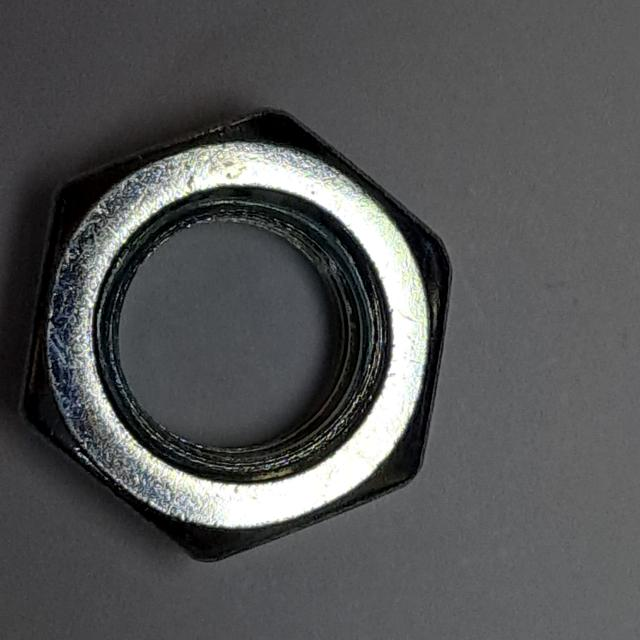Excellent: (8, 89, 466, 576)
